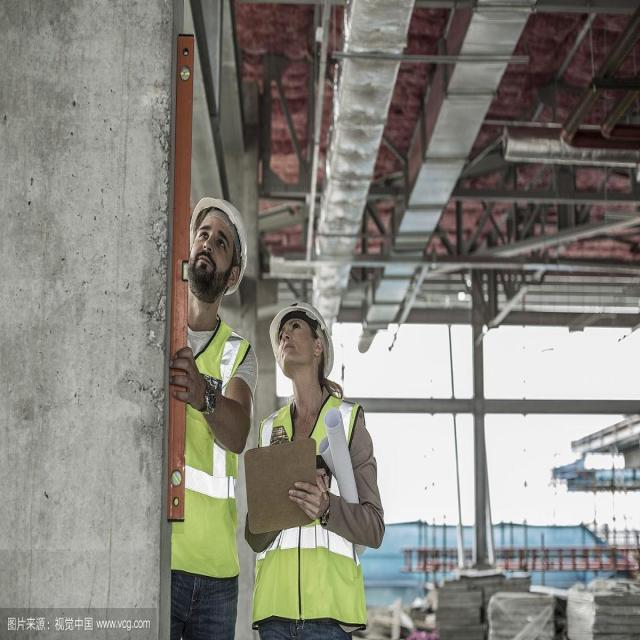vest: (266, 392, 362, 628), (186, 319, 244, 575)
